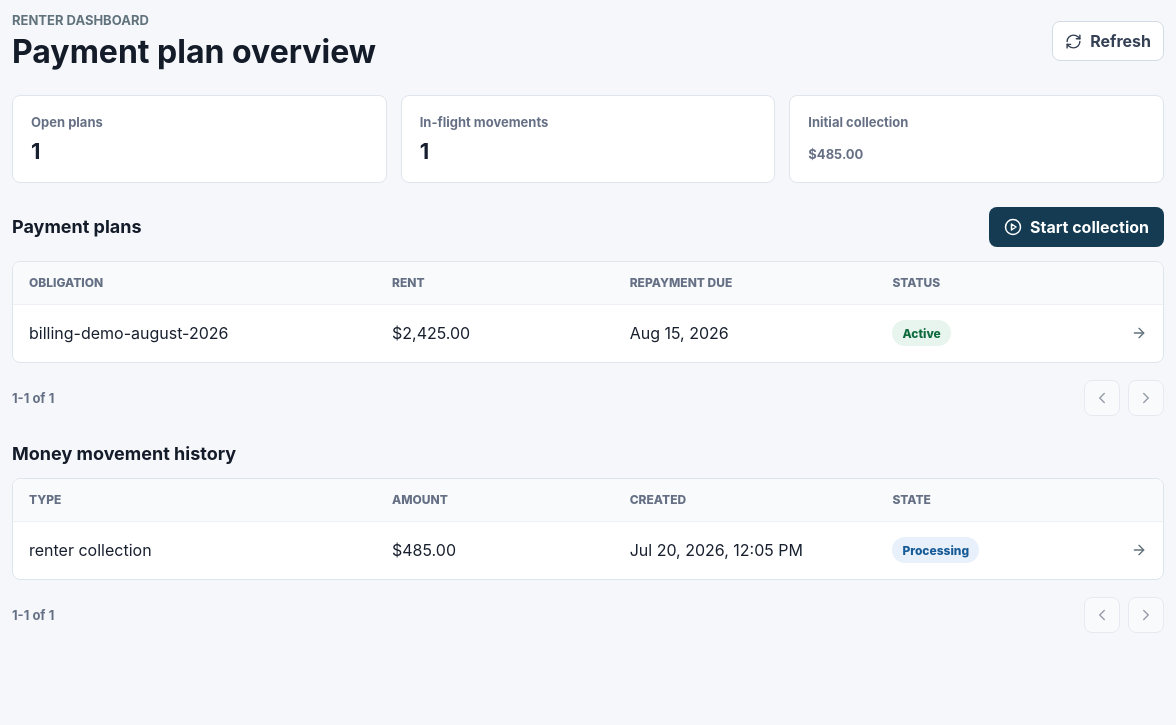
RenterDashboardPage › starts a collection, shows success feedback, and refreshes dashboard data
Click the button "Start collection": (1076, 227) [989,207,1164,247]
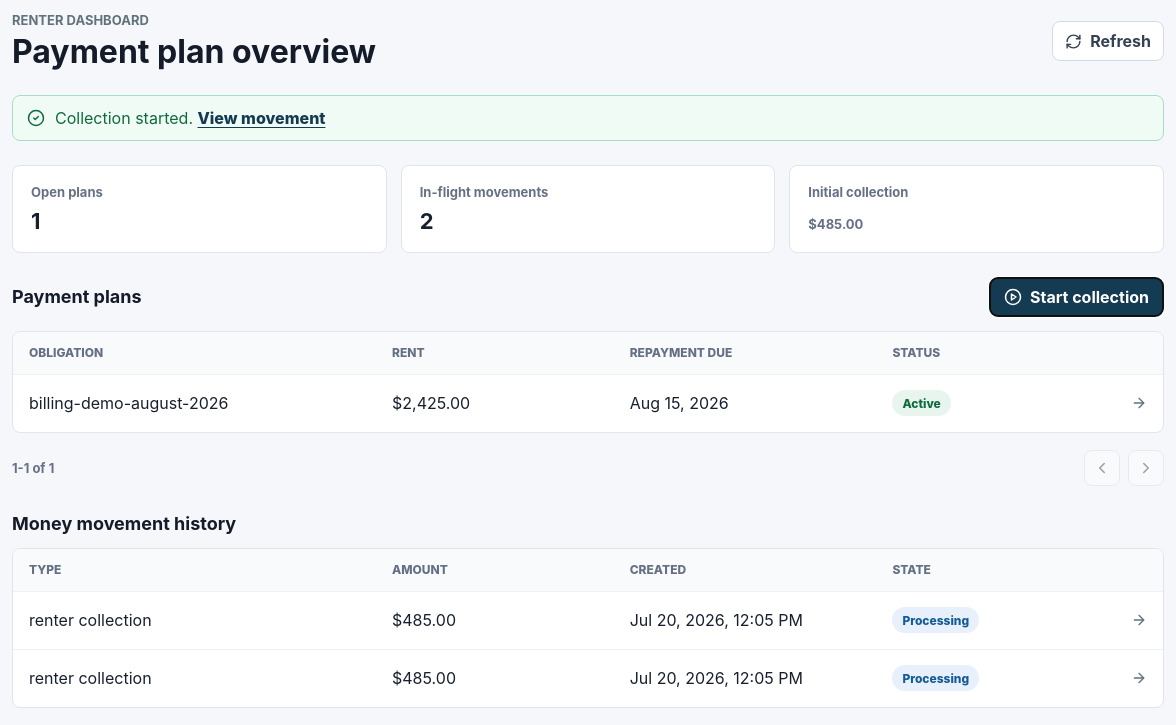
Result: the text "Collection started. View movement" is shown at [55,108,325,128]
